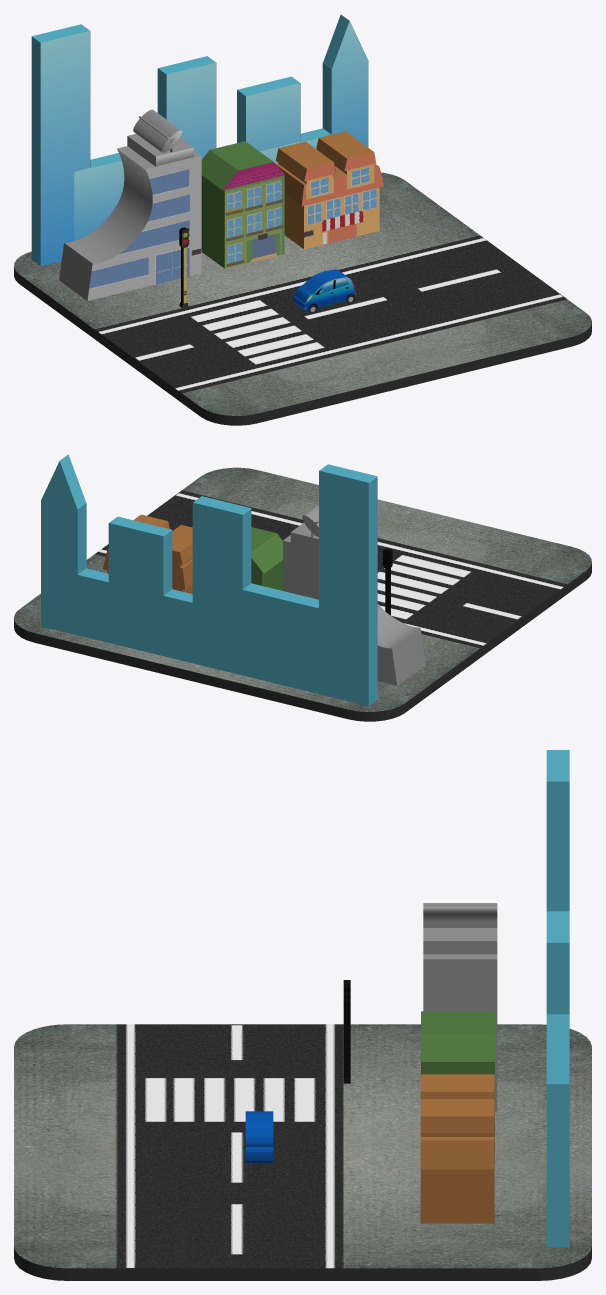
File: city.FBX
The picture shows the model from 3 angles, top to bottom: view 1: azimuth 30°, elevation 25°; view 2: azimuth 150°, elevation 25°; view 3: azimuth 270°, elevation 25°; orthographic projection. The views are drawn at different scales.
Visible parts, largest first — view 1: Shape10; view 2: Shape10; view 3: Shape10.
Boxes of the visible parts, x1=… form: Shape10: x1=14, y1=14, x2=591, y2=425; Shape10: x1=14, y1=454, x2=591, y2=721; Shape10: x1=14, y1=750, x2=591, y2=1280.
Size of the model in its own units: 62.43 by 62.47 by 36.06.
14 materials, 7 textured.
